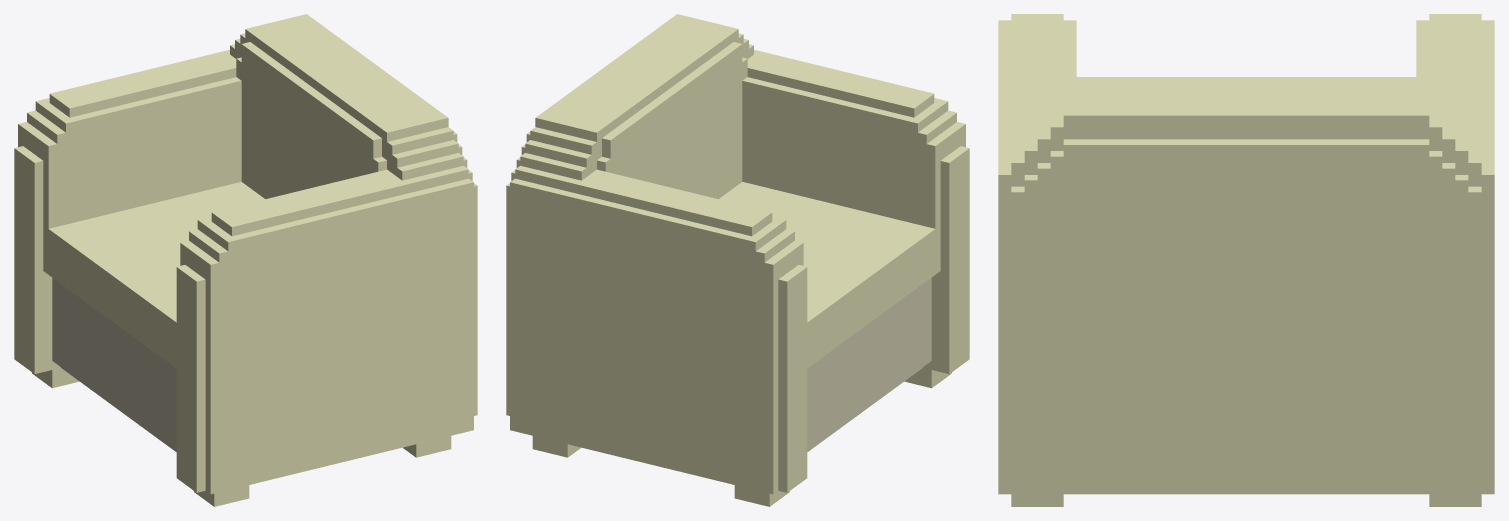
Rendered from chair_0_lev1_lev3.glb.
3 views of the same model, side by side, from view 1: azimuth 30°, elevation 25°; view 2: azimuth 150°, elevation 25°; view 3: azimuth 270°, elevation 25° (orthographic). The views are drawn at different scales.
Parts seen in each view (by area): view 1: chair_0_lev1_lev3; view 2: chair_0_lev1_lev3; view 3: chair_0_lev1_lev3.
Boxes of the visible parts, x1,y1,x2,y2 form: chair_0_lev1_lev3: (14,14,477,506); chair_0_lev1_lev3: (506,14,969,506); chair_0_lev1_lev3: (998,14,1494,506).
Size of the model in its own units: 1.82 by 1.93 by 2.16.
1 material, 1 textured.
